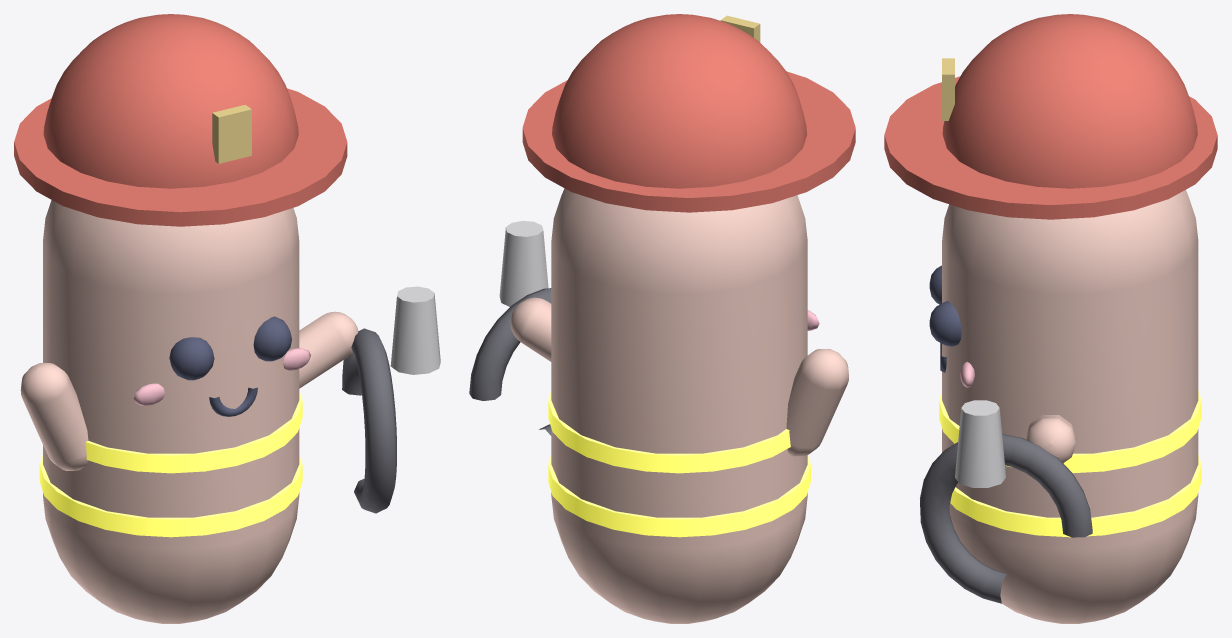
The model's file is damkar.glb.
3 renders of one model, left to right at view 1: azimuth 30°, elevation 25°; view 2: azimuth 150°, elevation 25°; view 3: azimuth 270°, elevation 25°, orthographic.
Parts seen in each view (by area): view 1: damkar; view 2: damkar; view 3: damkar.
Boxes of the visible parts, bbox=[...] form: damkar: bbox=[14, 14, 440, 623]; damkar: bbox=[469, 14, 855, 623]; damkar: bbox=[884, 14, 1217, 623].
Size of the model in its own units: 0.6797 by 1.01 by 0.52.
